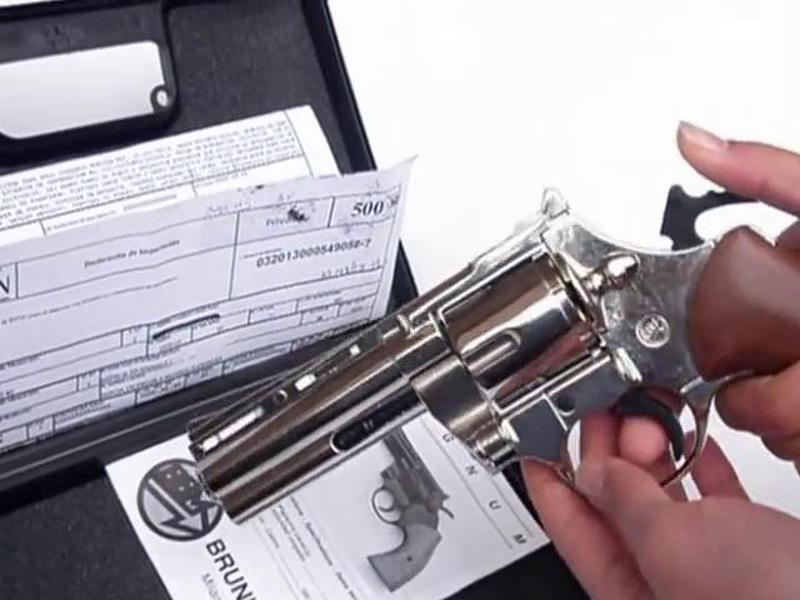Revolver: (187, 182, 770, 540)
